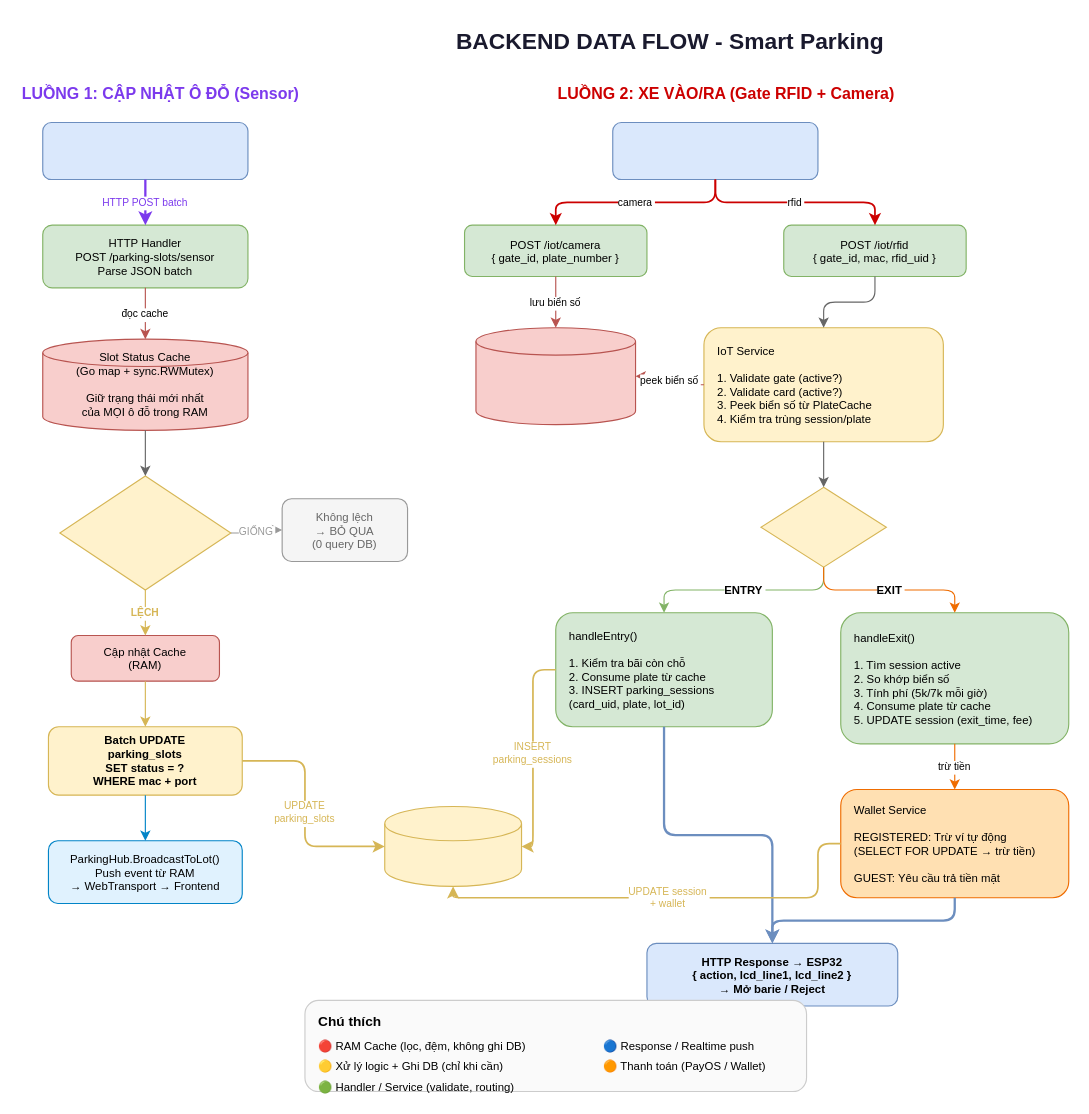
This 1089x1114 diagram has some shape labels left out. The centre of each missing label's shape, as x and y in pixels:
"ESP32 Gate Board Camera + RFID" goes at pixel 715 150.
"ESP32 Sensor Board Batch 8 ô / 5 giây" goes at pixel 145 150.
"Loại Gate?" goes at pixel 823 526.
"MySQL" goes at pixel 453 845.
"PlateCache (Go map + Mutex) map[gateID] → biển số TTL 5 phút, dùng 1 lần" goes at pixel 555 376.
"So sánh Cache vs Batch Lọc ra ô nào LỆCH" goes at pixel 145 532.
